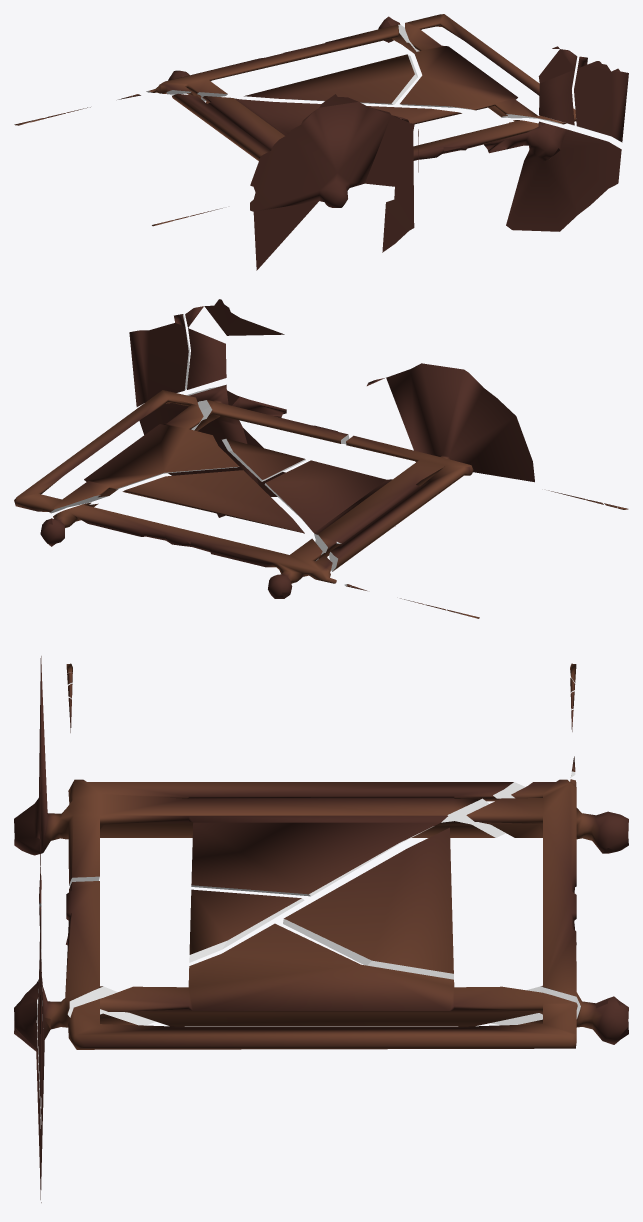
The model's file is Carts and Wagons(2).glb.
3 views of the same model, one above another, from view 1: azimuth 30°, elevation 25°; view 2: azimuth 150°, elevation 25°; view 3: azimuth 270°, elevation 25° (orthographic). The views are drawn at different scales.
Visible parts, largest first — view 1: Root.001, Root.009, Root.014, Root.015, Root.004, Root.005, Root.016, Root.010; view 2: Root.001, Root.014, Root.004, Root.009, Root.015, Root.005, Root.016, Root.010; view 3: Root.014, Root.001, Root.015, Root.004, Root.009, Root.010.
Boxes of the visible parts, x1,y1,x2,y2 form: Root.001: (172,93,414,270); Root.009: (413,120,621,231); Root.014: (400,14,576,124); Root.015: (244,54,417,104); Root.004: (146,16,419,101); Root.005: (574,56,628,142); Root.016: (538,46,577,125); Root.010: (367,106,461,124); Root.001: (264,363,534,571); Root.014: (14,390,239,513); Root.004: (40,502,336,598); Root.009: (139,384,349,517); Root.015: (122,470,304,533); Root.005: (129,314,189,406); Root.016: (185,299,284,389); Root.010: (222,438,305,481); Root.014: (68,923,577,1049); Root.001: (14,656,525,896); Root.015: (283,827,453,979); Root.004: (466,779,628,1044); Root.009: (14,881,155,1202); Root.010: (189,889,304,962).
Bounding box in the file's own units: 5.21 × 2.15 × 3.22.
